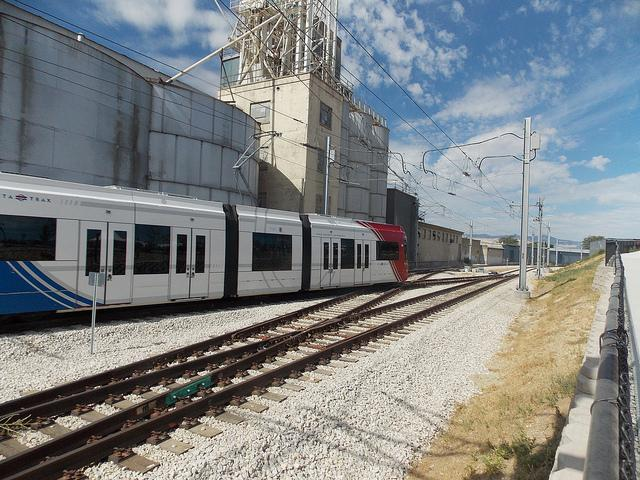Train: (5, 169, 411, 329)
